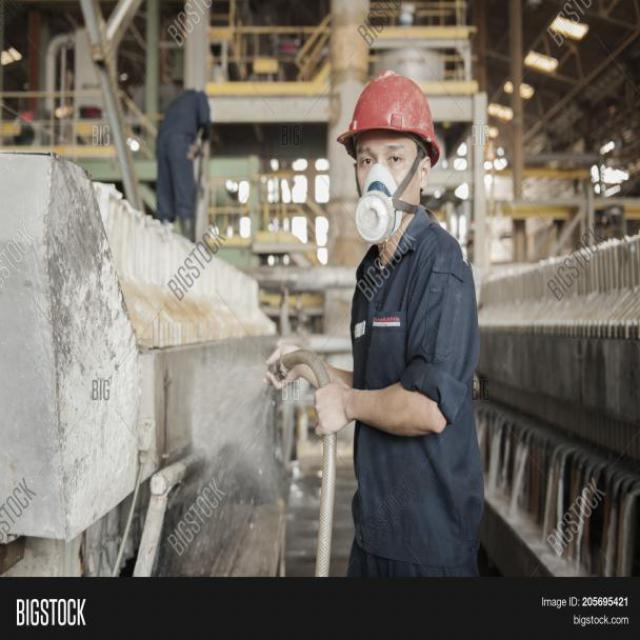helmet: (333, 52, 446, 244)
